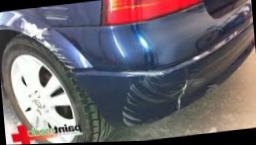Bumper: (32, 26, 225, 129)
Fender: (0, 5, 77, 35)
